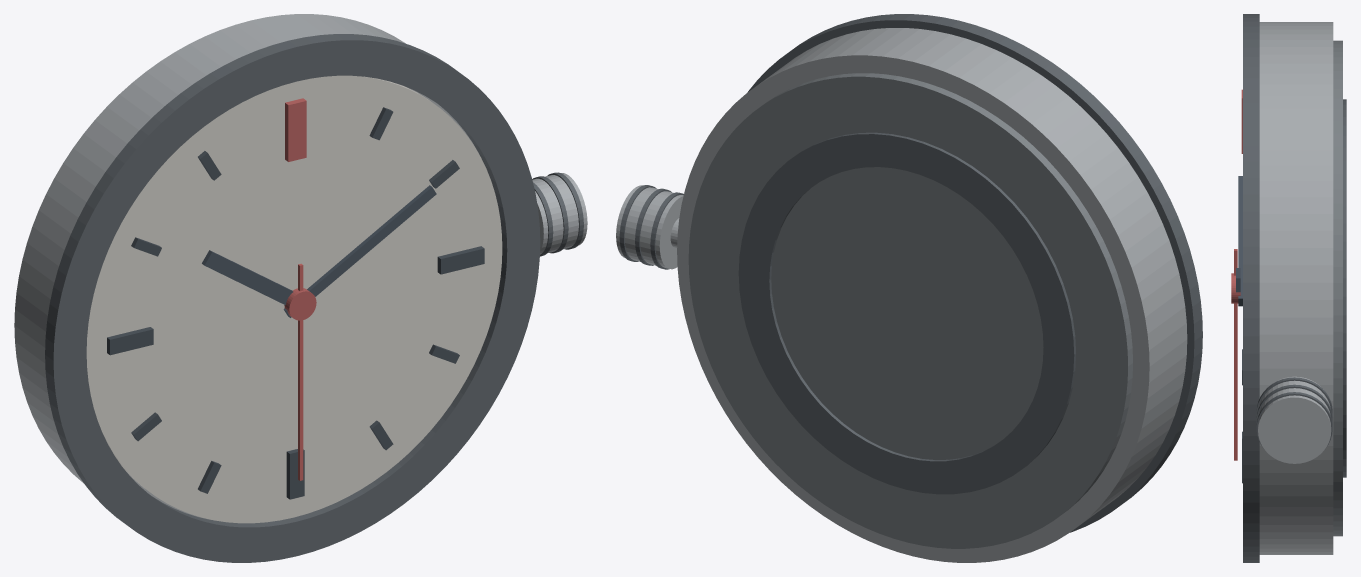
Rendered from watch_model_round_vertexcolor.glb.
3 renders of one model, left to right at view 1: azimuth 30°, elevation 25°; view 2: azimuth 150°, elevation 25°; view 3: azimuth 270°, elevation 25°, orthographic. The views are drawn at different scales.
Parts seen in each view (by area): view 1: RoundWatch; view 2: RoundWatch; view 3: RoundWatch.
Part boxes in pixels (x1,y1,x2,y2): RoundWatch: [14, 14, 587, 562]; RoundWatch: [616, 14, 1202, 562]; RoundWatch: [1231, 14, 1346, 562].
Size of the model in its own units: 0.0459 by 0.0412 by 0.00867.
